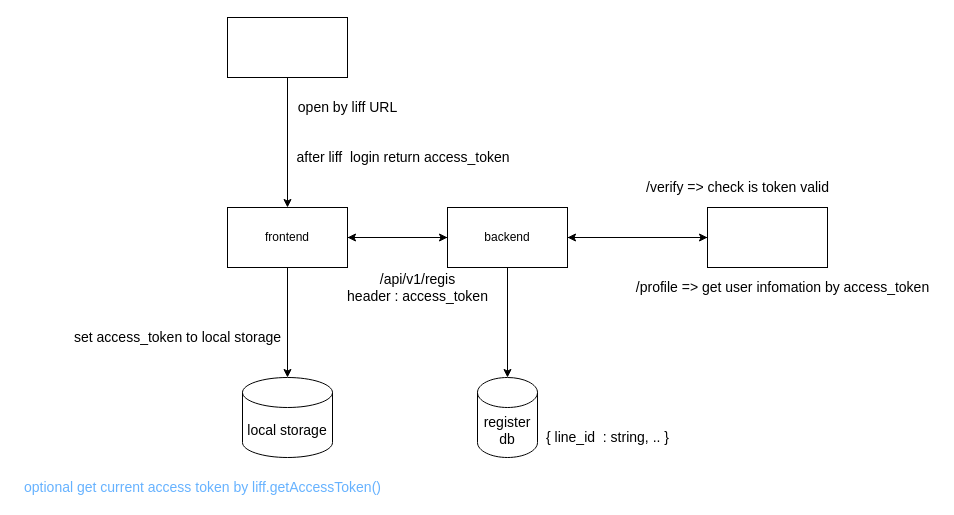
This 954x515 diagram has some shape labels left out. Here are the shapes that lost their labels. From the top down, the centre of each, then its label:
At (287,47): "line OA".
At (767,237): "line service".
